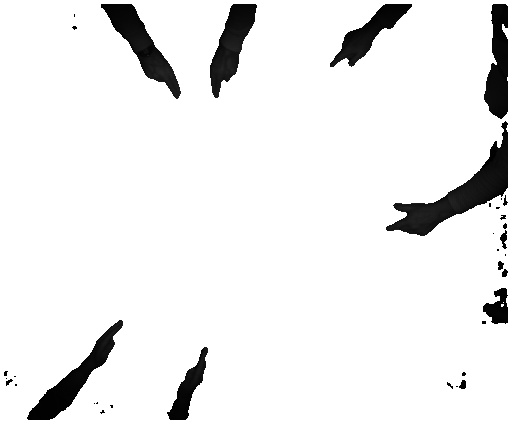hand: (384, 200, 440, 239), (142, 52, 183, 103), (328, 27, 374, 71), (208, 54, 242, 103)
spine: (84, 320, 127, 370), (176, 344, 207, 397)
